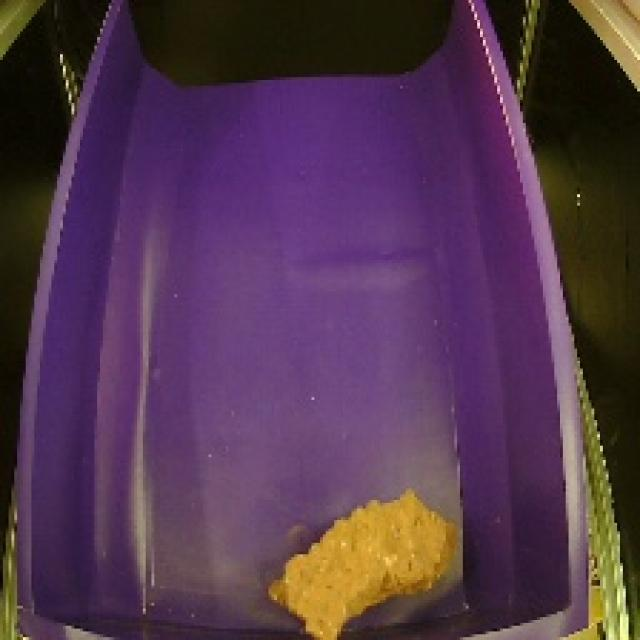brick: (254, 480, 463, 640)
